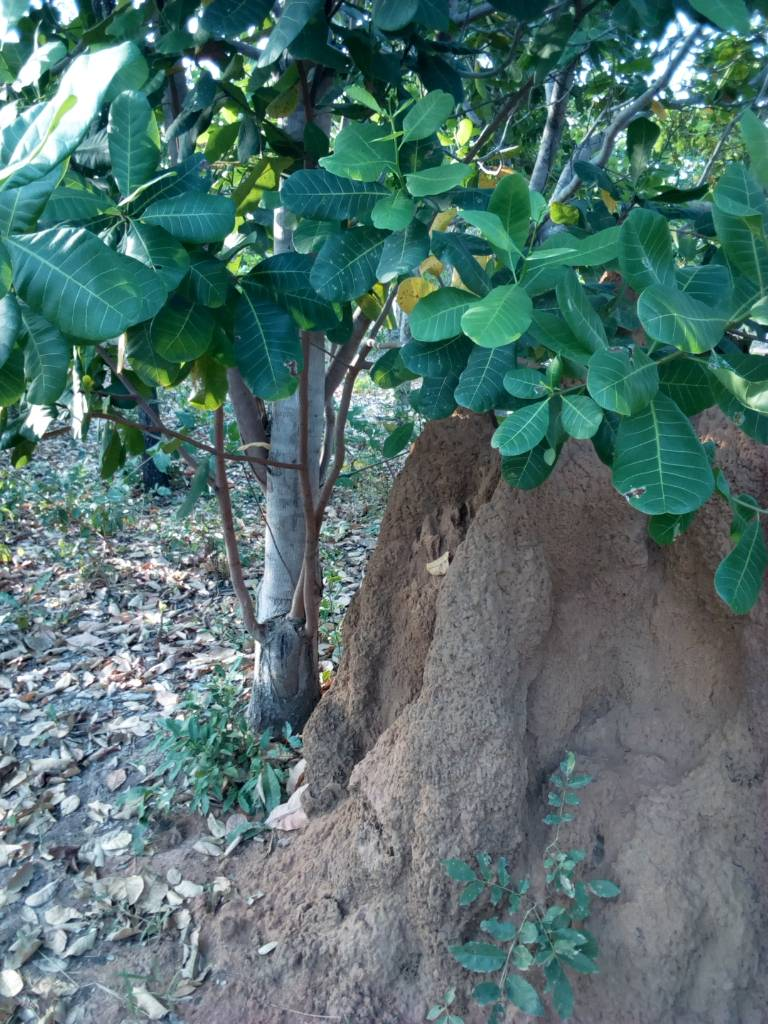Virose: (230, 386, 768, 1024)
